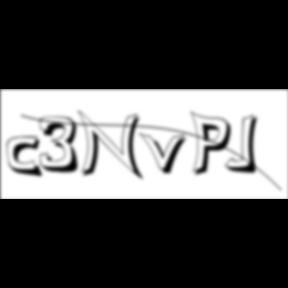3: (40, 116, 86, 176)
J: (225, 114, 264, 176)
N: (77, 109, 147, 183)
P: (190, 110, 238, 180)
c: (7, 136, 47, 180)
v: (139, 131, 193, 177)
